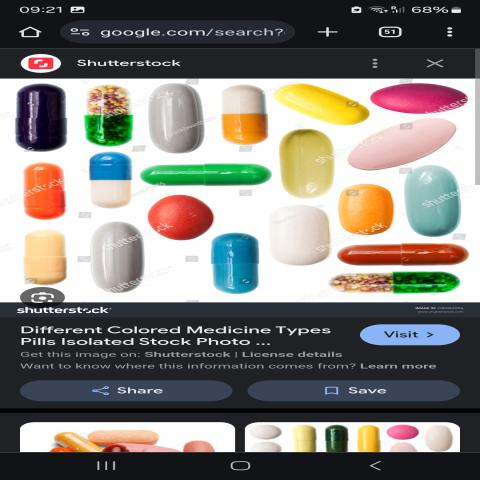Pill: (73, 216, 161, 300), (136, 78, 221, 162), (354, 113, 466, 174), (269, 124, 356, 201), (393, 161, 479, 238), (262, 198, 337, 271), (193, 229, 271, 298), (127, 188, 224, 243), (15, 81, 78, 153), (216, 81, 278, 154), (11, 225, 79, 286), (80, 149, 141, 214)
